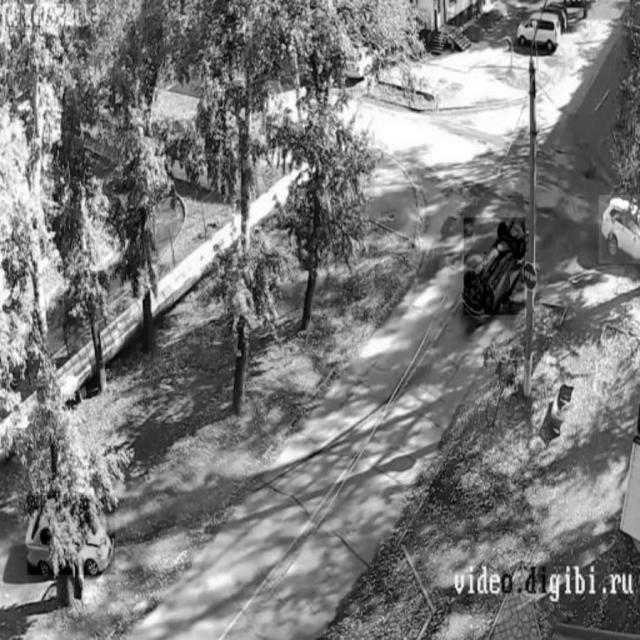vehicle: (27, 495, 115, 575), (464, 217, 525, 315), (599, 195, 640, 263), (516, 6, 563, 52)
